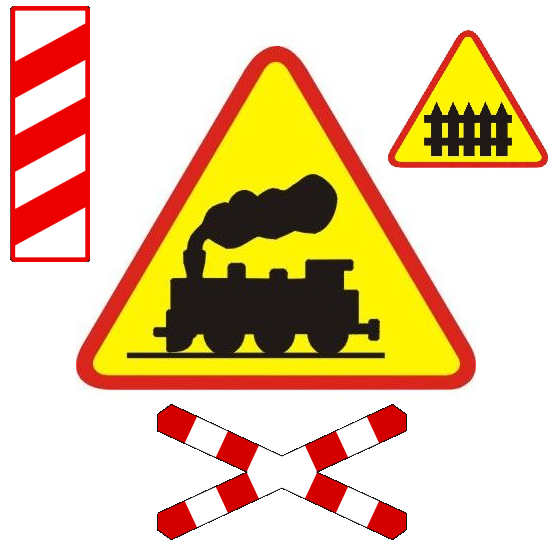a10: (124, 170, 396, 365)
a9: (421, 101, 517, 162)
